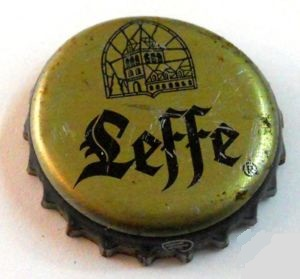leffe: (16, 11, 292, 272)
